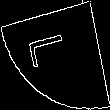L_E: (31, 34, 79, 76)
